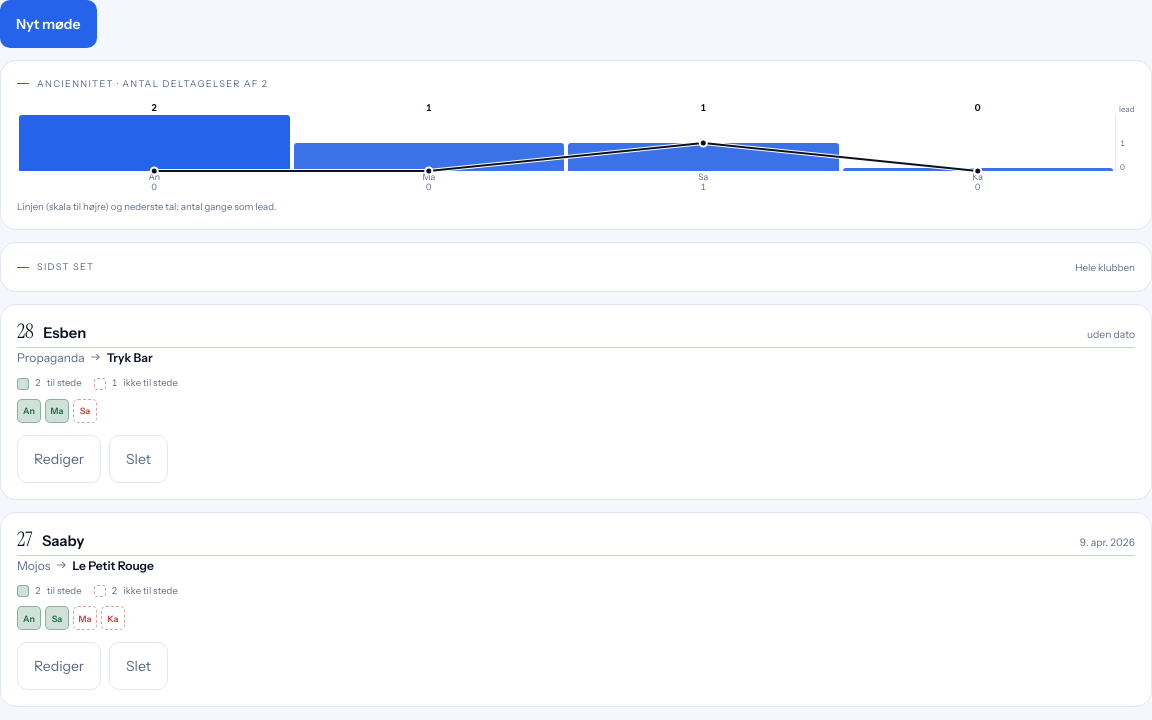
Test: deleting a meeting › asks first, and counts what goes with it
Step 1. Click the button "Slet" below "Mojos" → (139, 666), box left=109, top=642, right=168, bottom=690
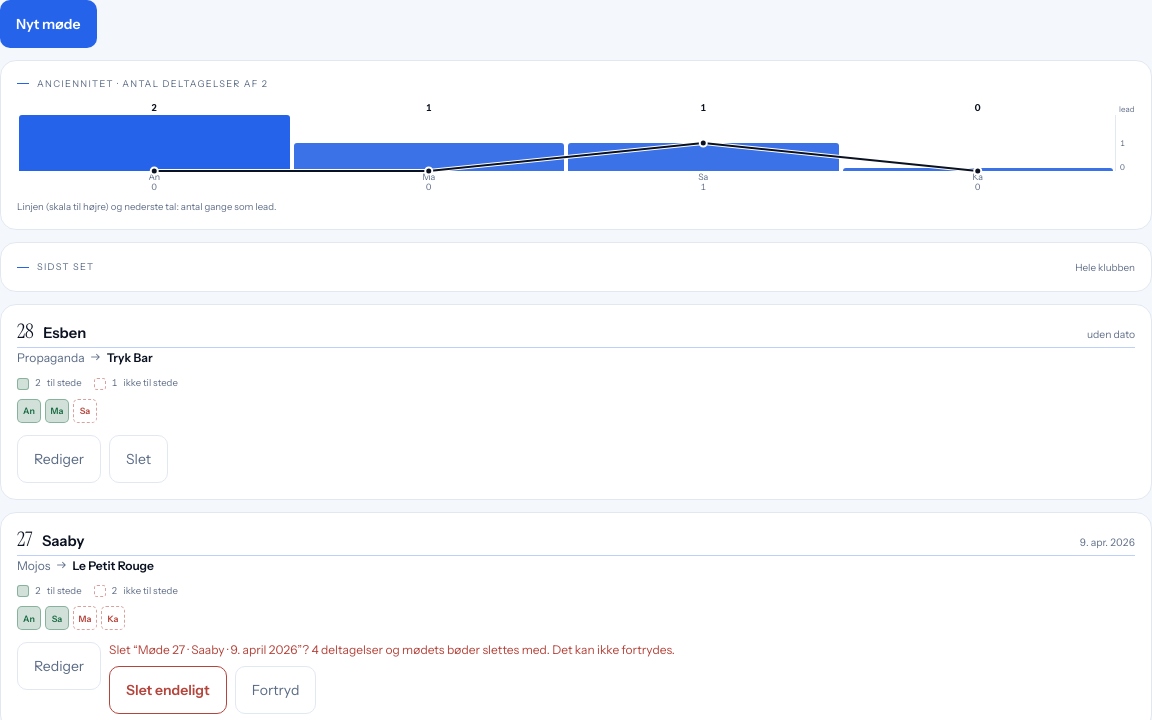
Now the message shows "Møde 27 · Saaby · 9. april 2026", box left=138, top=642, right=297, bottom=657
Now the message shows "4 deltagelser og mødets bøder slettes med.", box left=312, top=642, right=552, bottom=657
Now the message shows "Det kan ikke fortrydes.", box left=552, top=642, right=675, bottom=657
